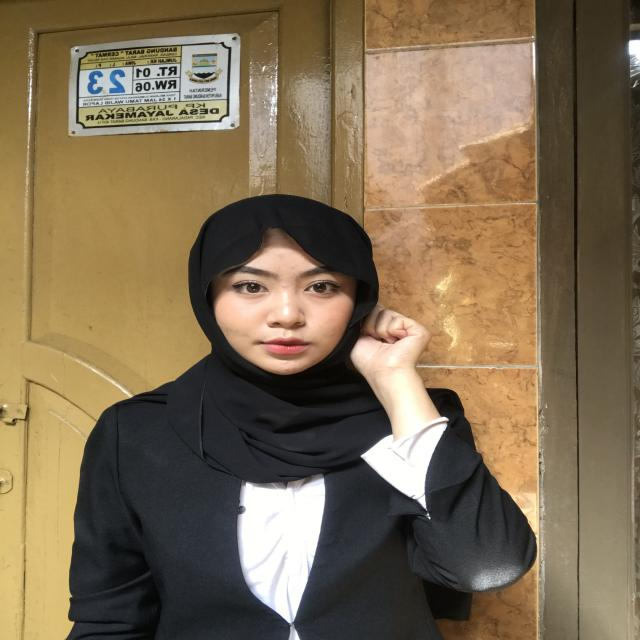ibu: (334, 303, 494, 429)
